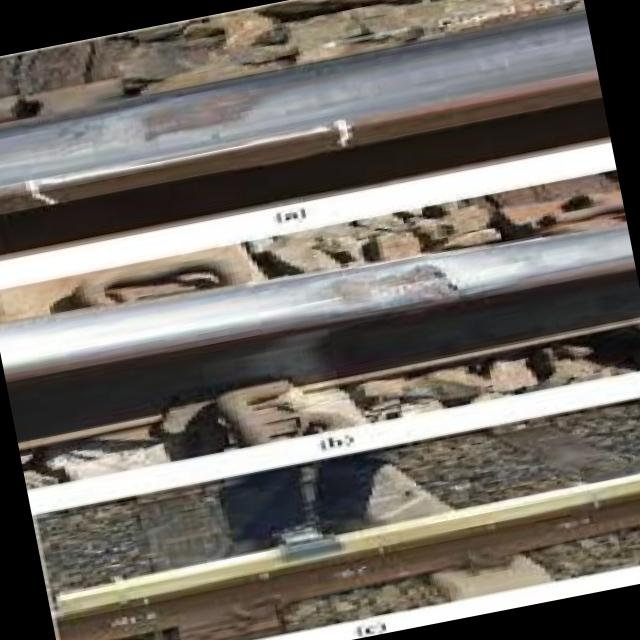defective: (47, 42, 332, 216), (293, 228, 506, 376)
